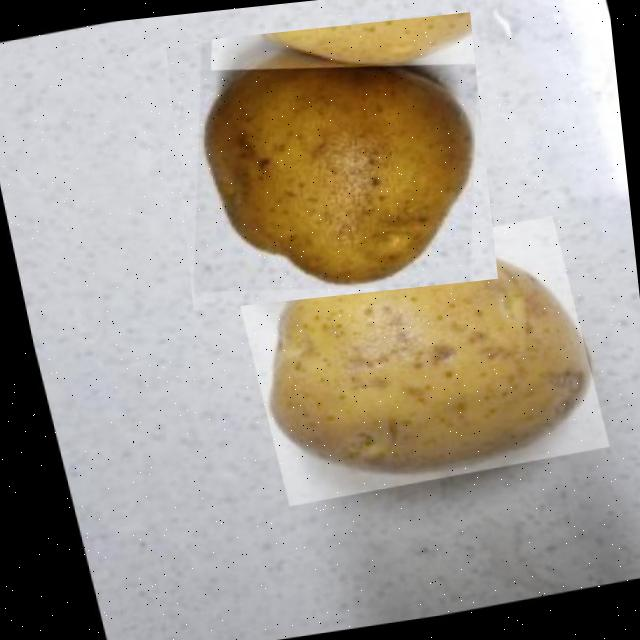Potato: (222, 216, 602, 511), (165, 11, 498, 310)
